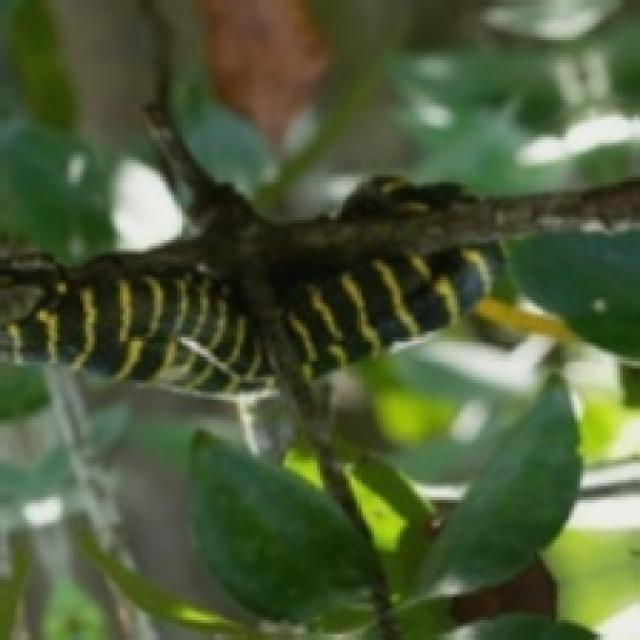mangrove cat snake: (274, 177, 500, 377), (0, 240, 274, 389)
